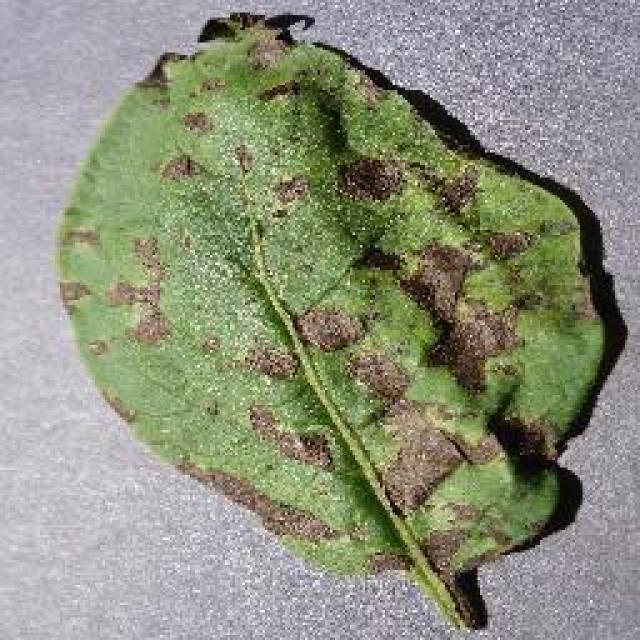early_blight: (50, 10, 625, 635)
